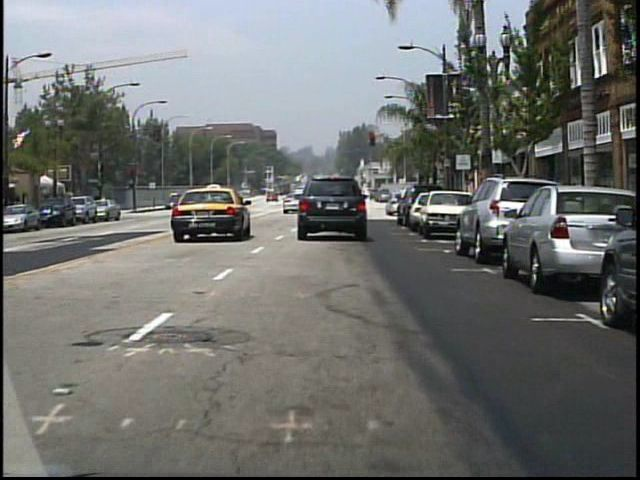person: (337, 189, 352, 213), (216, 188, 229, 212)
